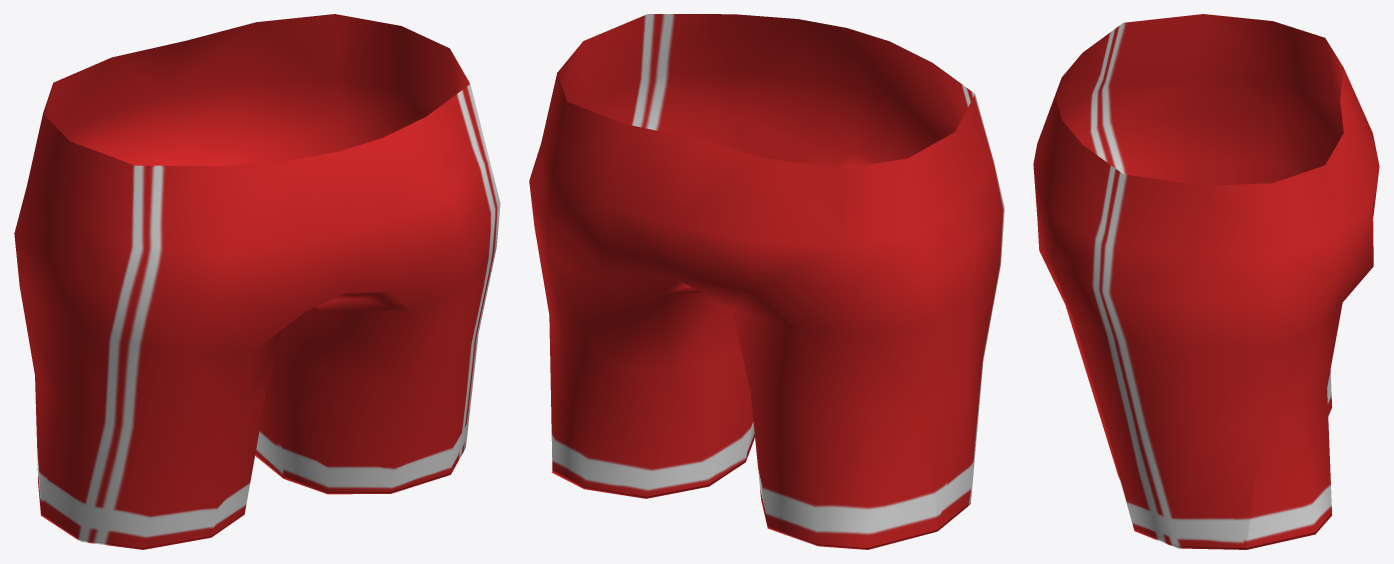
The model's file is AF_M_Trousers_14.fbx.
3 views of the same model, side by side, from view 1: azimuth 30°, elevation 25°; view 2: azimuth 150°, elevation 25°; view 3: azimuth 270°, elevation 25° (orthographic). The views are drawn at different scales.
Parts seen in each view (by area): view 1: AF_M_Trousers_14; view 2: AF_M_Trousers_14; view 3: AF_M_Trousers_14.
Boxes of the visible parts, <box> form: AF_M_Trousers_14: <box>14,14,500,549</box>; AF_M_Trousers_14: <box>529,14,1004,549</box>; AF_M_Trousers_14: <box>1033,14,1379,549</box>.
Bounding box in the file's own units: 344 × 315 × 270.
